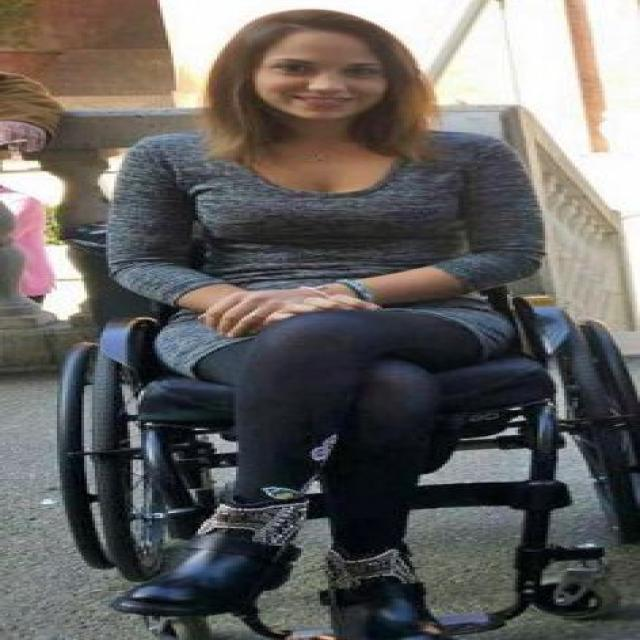wheelchairs: (27, 127, 640, 640)
